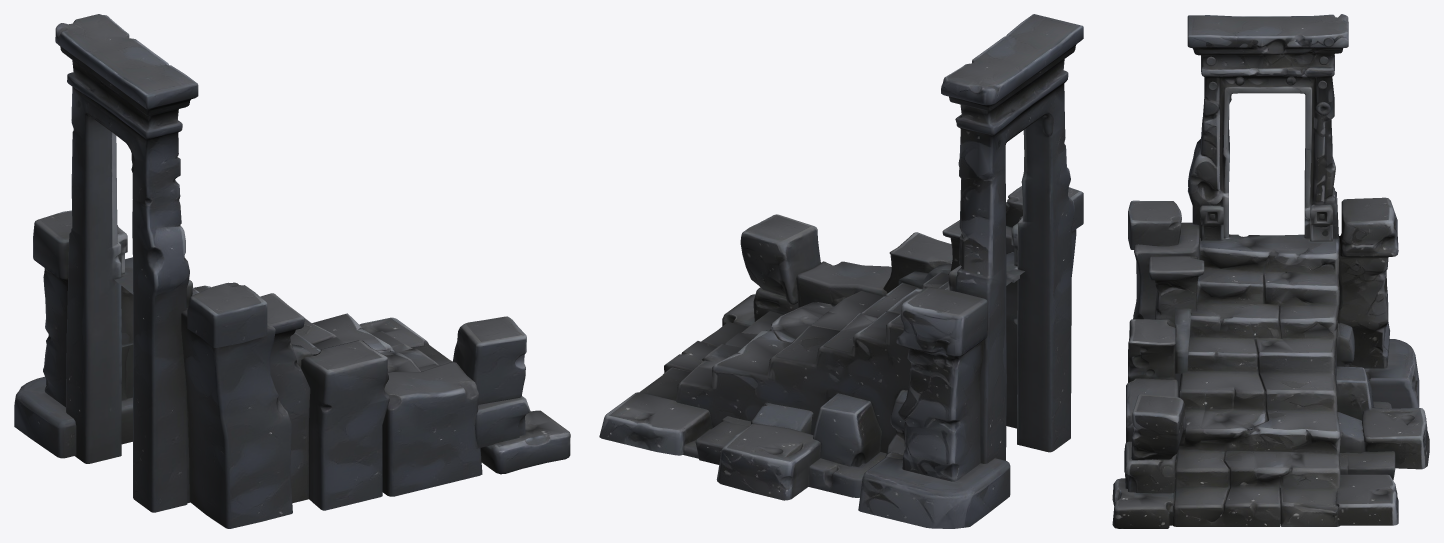
The model's file is ruined-stair.glb.
3 renders of one model, left to right at view 1: azimuth 30°, elevation 25°; view 2: azimuth 150°, elevation 25°; view 3: azimuth 270°, elevation 25°, orthographic. The views are drawn at different scales.
Parts seen in each view (by area): view 1: tripo_node_04570d02-4123-4b2b-bb89-afec6e42d7fe; view 2: tripo_node_04570d02-4123-4b2b-bb89-afec6e42d7fe; view 3: tripo_node_04570d02-4123-4b2b-bb89-afec6e42d7fe.
Part boxes in pixels (left/top/right/bottom): tripo_node_04570d02-4123-4b2b-bb89-afec6e42d7fe: left=14, top=14, right=570, bottom=528; tripo_node_04570d02-4123-4b2b-bb89-afec6e42d7fe: left=599, top=14, right=1083, bottom=528; tripo_node_04570d02-4123-4b2b-bb89-afec6e42d7fe: left=1112, top=14, right=1429, bottom=528.
Bounding box in the file's own units: 0.9565 × 0.9995 × 0.7954.
1 material, 1 textured.
